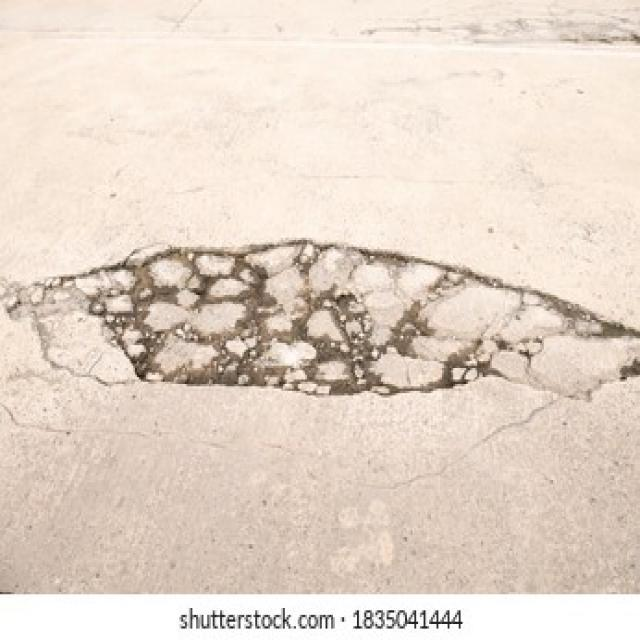Pothole: (28, 236, 634, 407)
